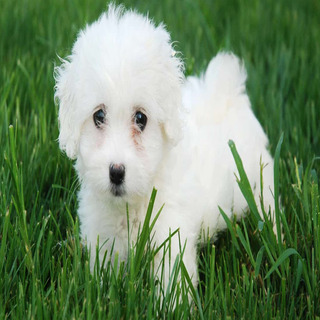perro: (36, 1, 202, 230)
